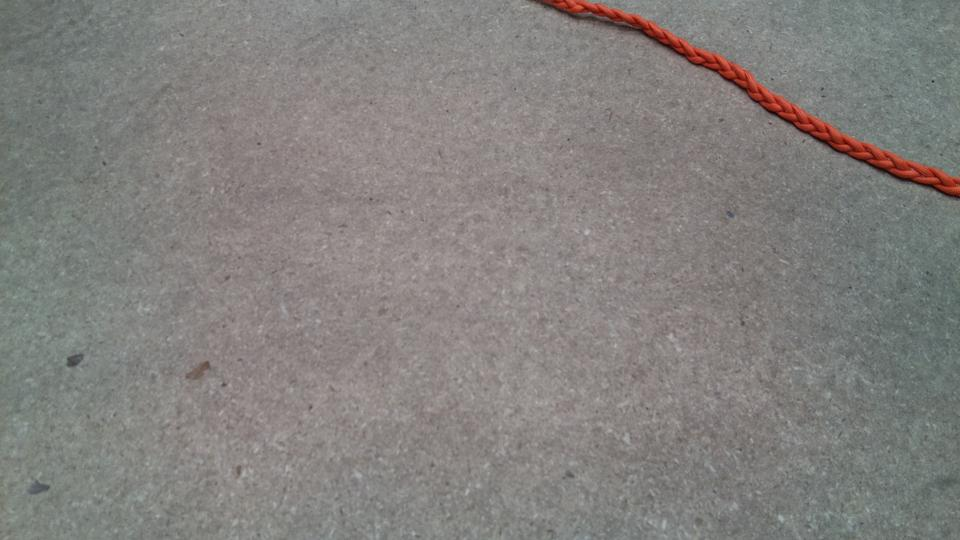rope: (568, 1, 960, 184)
